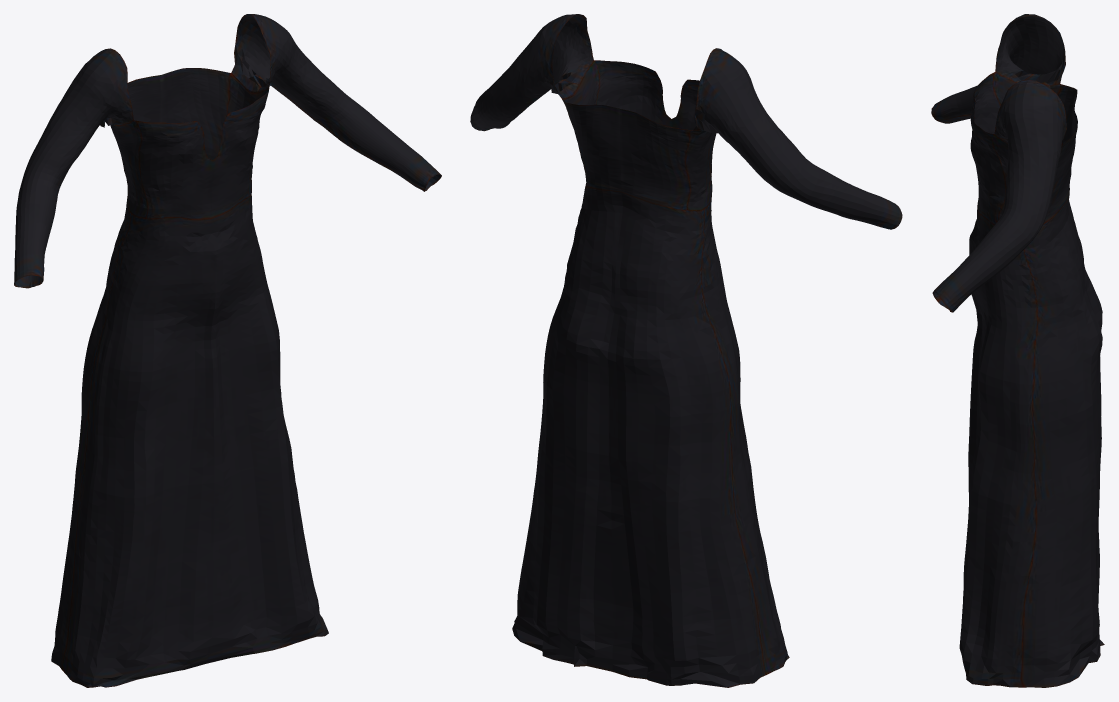
File: mhw_mindfront_f_dress_09.glb
3 views of the same model, side by side, from view 1: azimuth 30°, elevation 25°; view 2: azimuth 150°, elevation 25°; view 3: azimuth 270°, elevation 25° (orthographic). The views are drawn at different scales.
Parts seen in each view (by area): view 1: mhw_mindfront_f_dress_09; view 2: mhw_mindfront_f_dress_09; view 3: mhw_mindfront_f_dress_09.
Part boxes in pixels (<box>): mhw_mindfront_f_dress_09: <box>14,14,441,687</box>; mhw_mindfront_f_dress_09: <box>470,14,902,687</box>; mhw_mindfront_f_dress_09: <box>931,14,1104,687</box>.
Size of the model in its own units: 1.11 by 1.51 by 0.4057.
1 material, 1 textured.
